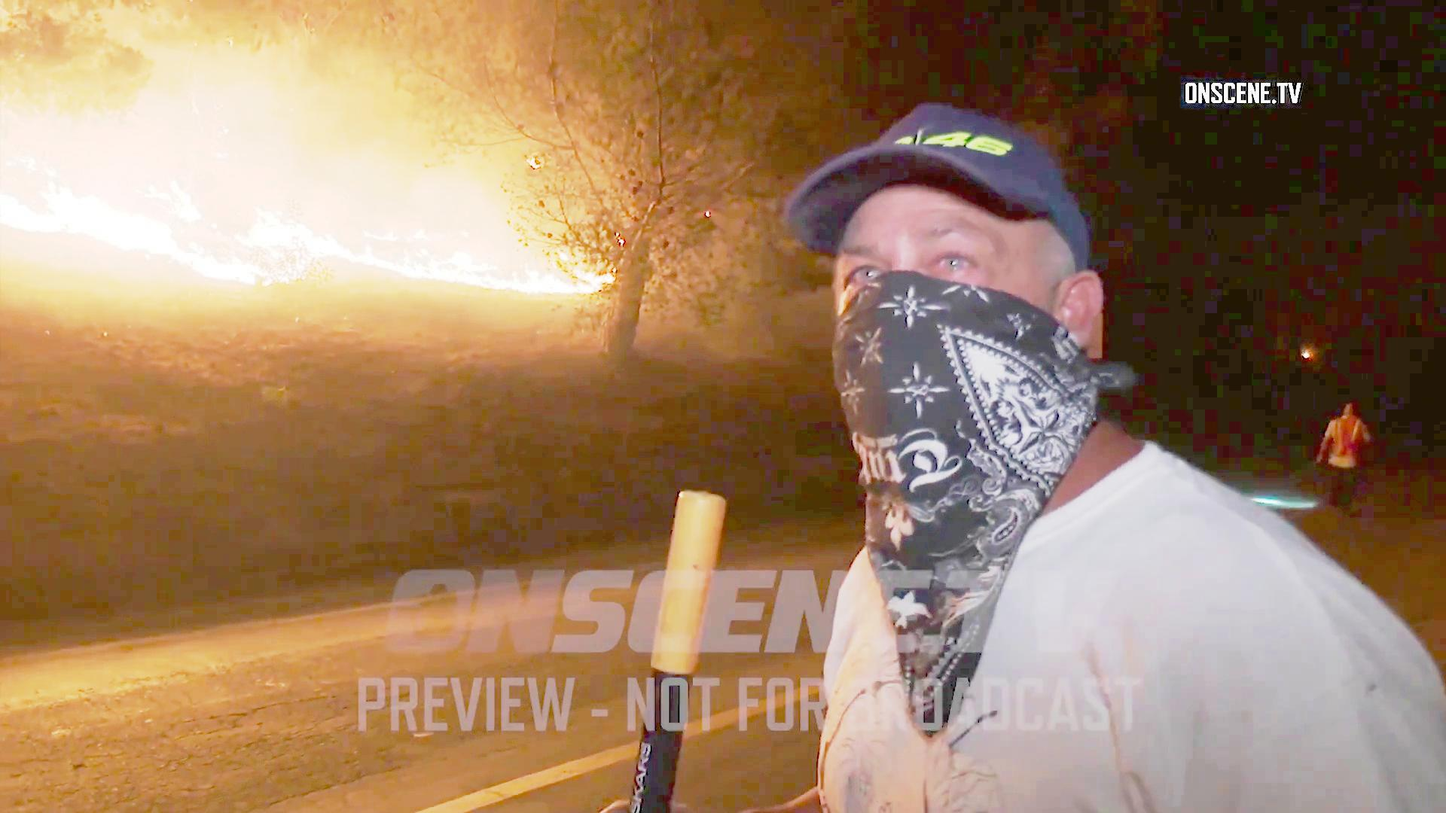fire: (0, 133, 249, 273)
